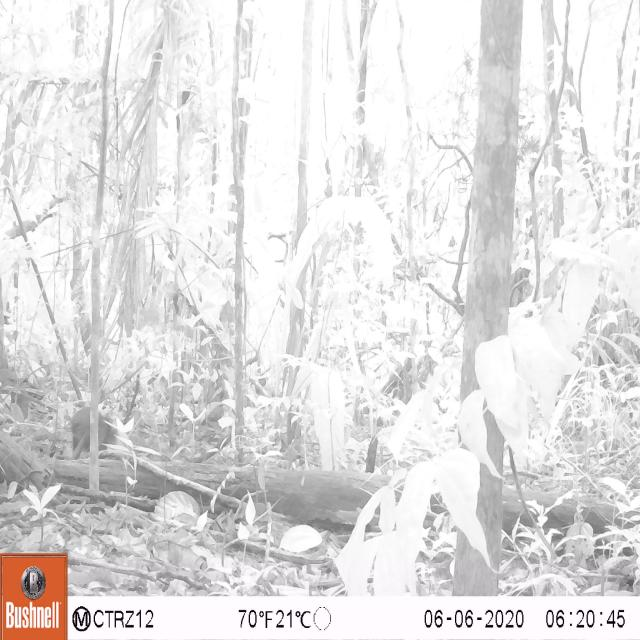Black Agouti: (63, 393, 124, 477)
